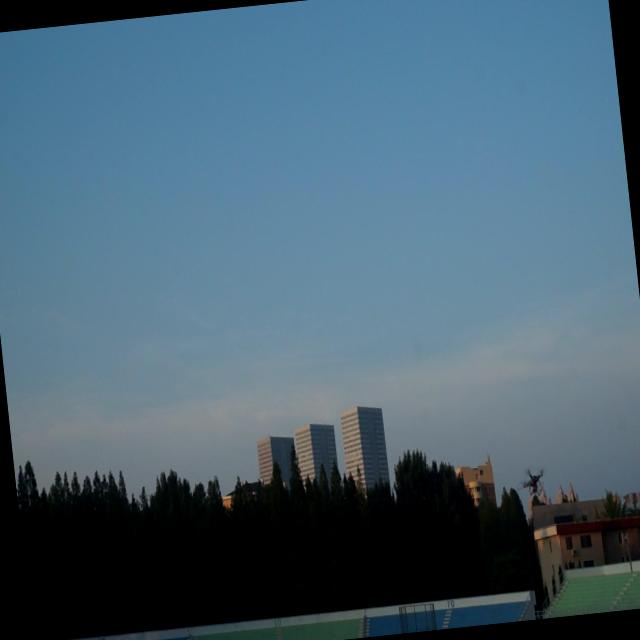drone: (514, 463, 548, 498)
